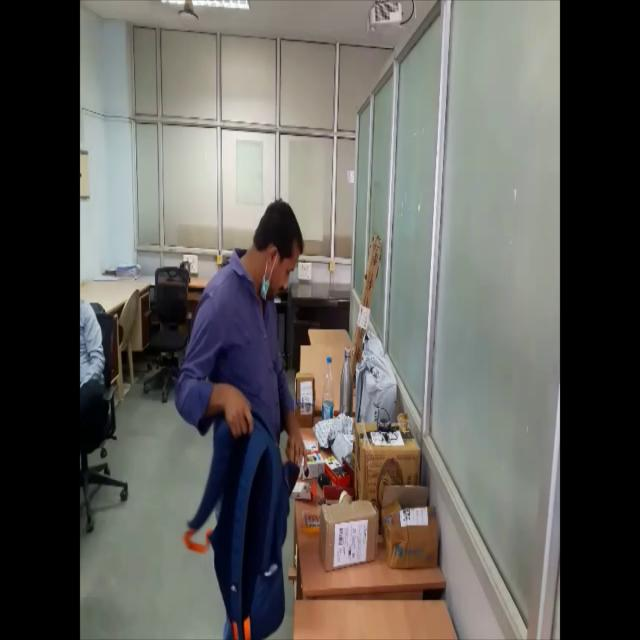shoplifting: (173, 194, 315, 640)
